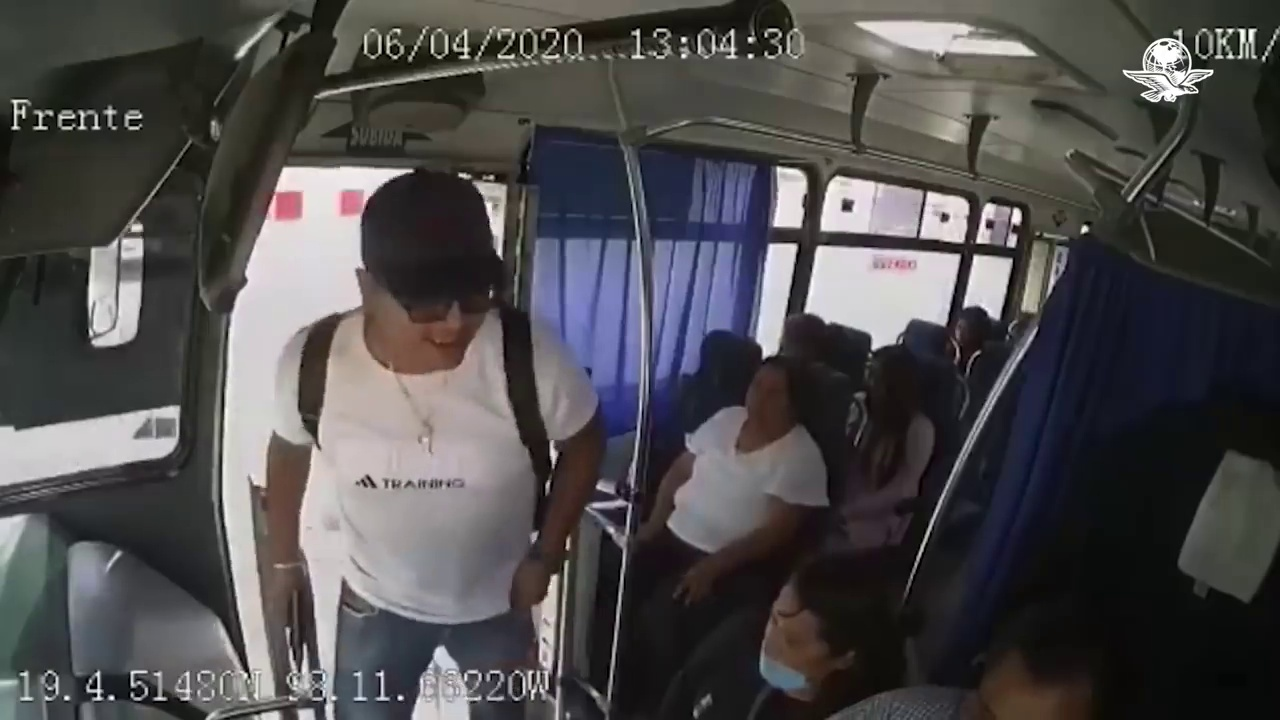pistol: (282, 582, 311, 681)
